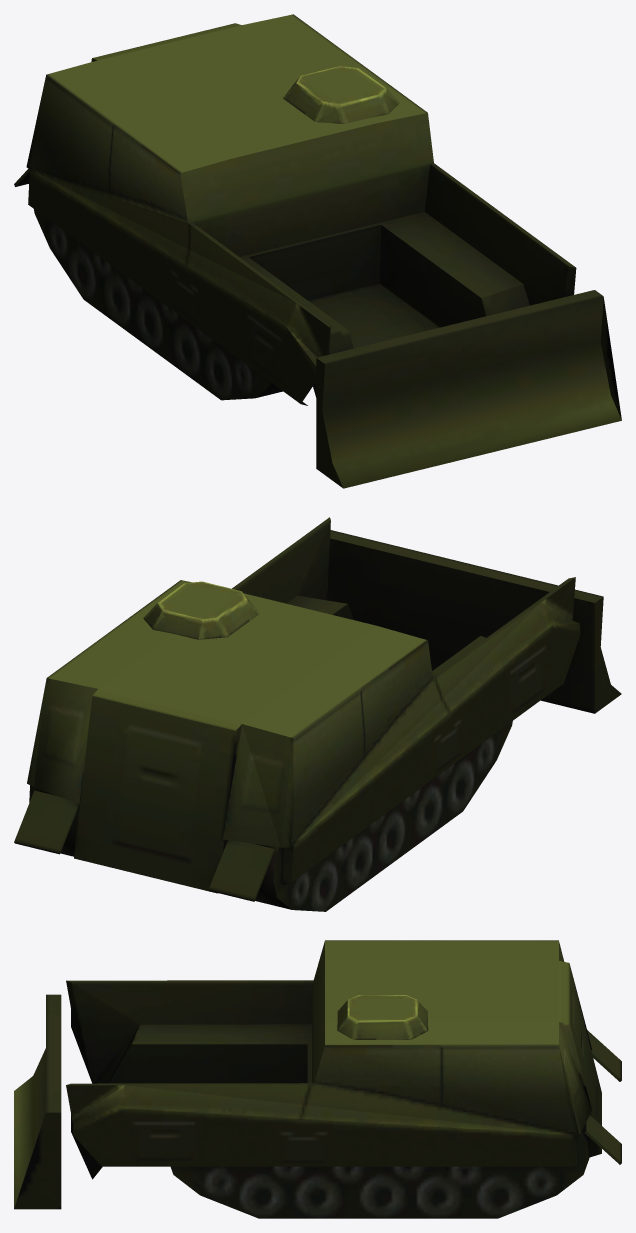
Rendered from M9ACE.DAE.
3 renders of one model, top to bottom at view 1: azimuth 30°, elevation 25°; view 2: azimuth 150°, elevation 25°; view 3: azimuth 270°, elevation 25°, orthographic. The views are drawn at different scales.
Visible parts, largest first — view 1: _1112_M9ACE; view 2: _1112_M9ACE; view 3: _1112_M9ACE.
Part boxes in pixels (x1,y1,x2,y2): _1112_M9ACE: (14, 14, 621, 488); _1112_M9ACE: (14, 517, 621, 911); _1112_M9ACE: (14, 940, 621, 1218).
Size of the model in its own units: 97.79 by 72.64 by 212.
Materials: 1 (1 with a texture image).
